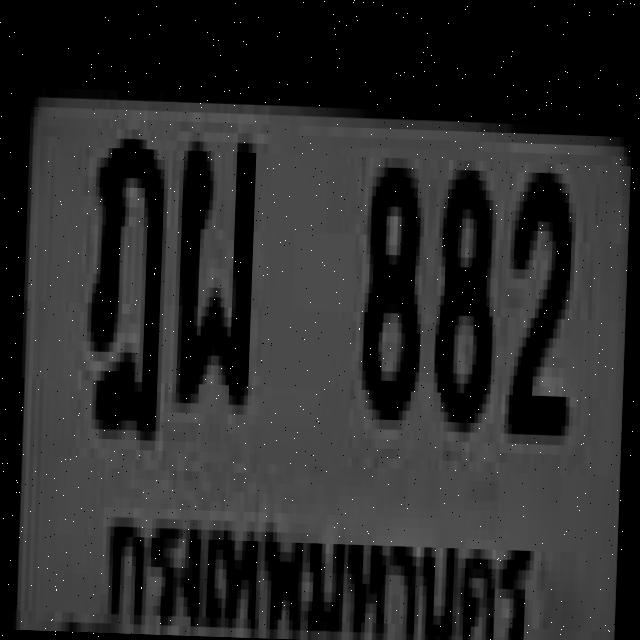2: (504, 162, 570, 426)
23DorChaDa: (84, 127, 162, 430)
37PhorPhueng: (172, 130, 252, 394)
8: (428, 159, 494, 423), (357, 157, 422, 410)
Bangkok: (102, 486, 536, 640)
